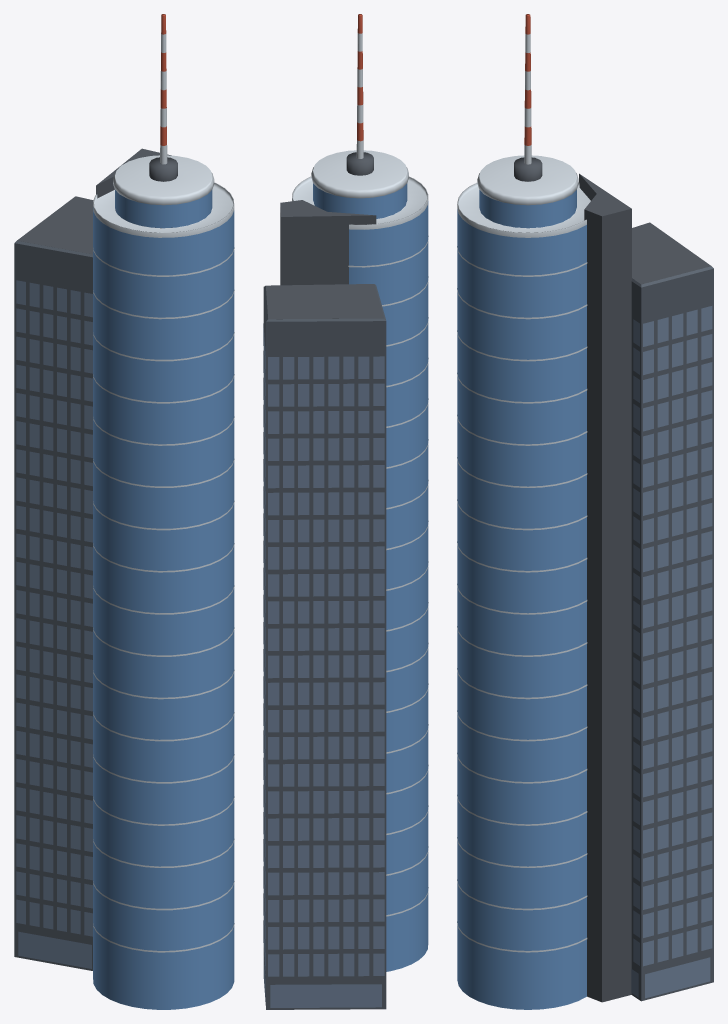
File: frankfurt-main-tower.glb
The picture shows the model from 3 angles, left to right: view 1: azimuth 30°, elevation 25°; view 2: azimuth 150°, elevation 25°; view 3: azimuth 270°, elevation 25°; orthographic projection. The views are drawn at different scales.
Visible parts, largest first — view 1: Main Tower; view 2: Main Tower; view 3: Main Tower.
Part boxes in pixels (x1,y1,x2,y2): Main Tower: (14, 14, 234, 1009); Main Tower: (263, 14, 428, 1009); Main Tower: (457, 14, 713, 1009).
Bounding box in the file's own units: 38.95 × 240 × 57.9.
